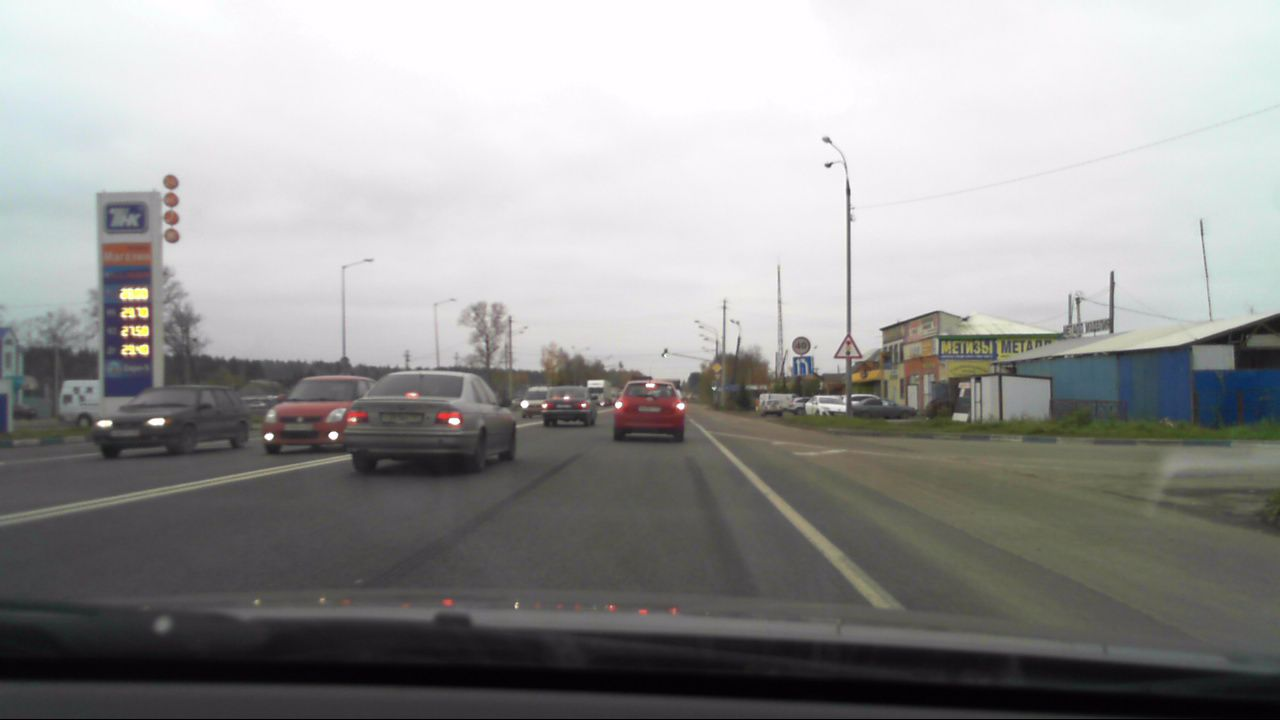speed_warning_40: (791, 335, 812, 354)
